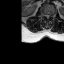CCS_normal: (47, 12, 48, 20)
LFS_stenosis: (50, 12, 52, 19)
LLS_stenosis: (48, 12, 50, 19)
RFS_stenosis: (43, 11, 45, 18)
RLS_normal: (45, 12, 47, 19)
